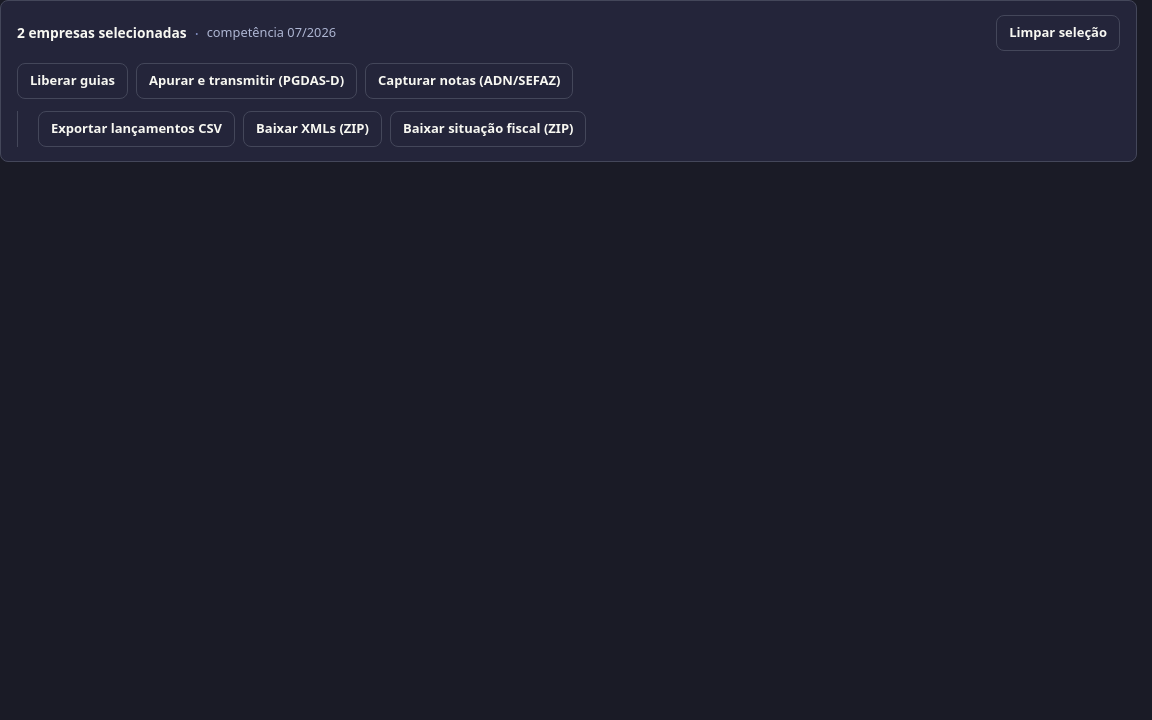
Test: ⚠ PRÉVIA ANTES, CONFIRMAÇÃO DEPOIS — nada sai no clique do botão › quem fica de fora aparece NA PRÉVIA com o motivo
The image size is (1152, 720).
Click the button "Liberar guias": {"x": 72, "y": 81} [17, 63, 128, 99]
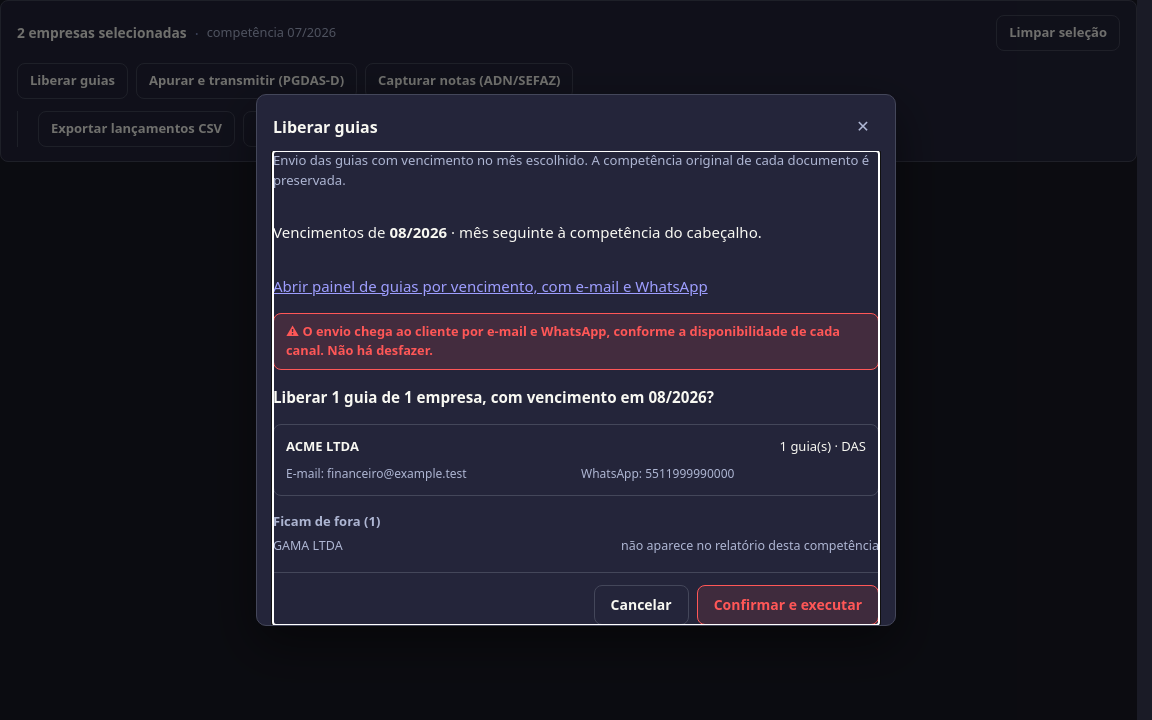
Expected: the text "Ficam de fora (1)" is shown, [273, 512, 380, 530]
Expected: the text "GAMA LTDA" is shown, [273, 537, 343, 556]
